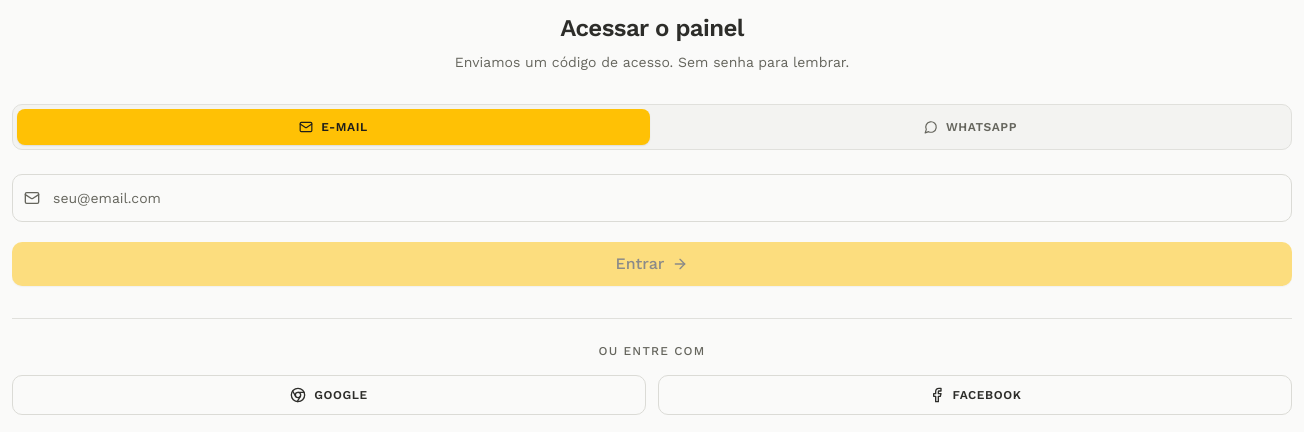
S1 9.4.2 — o login em etapas nas duas abas › ABA E-MAIL: pede o código e AVANÇA para a etapa de verificação
The image size is (1304, 432).
In the field named "E-mail": (652, 198) [12,174,1292,222], type "fulana@example.com"
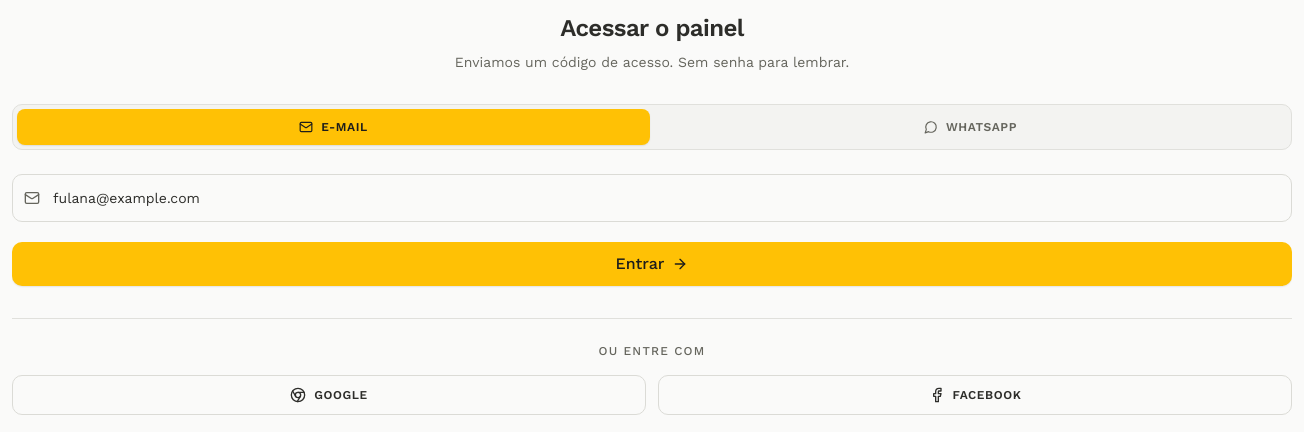
Click the 1st button named "entrar": (652, 264) [12,242,1292,286]
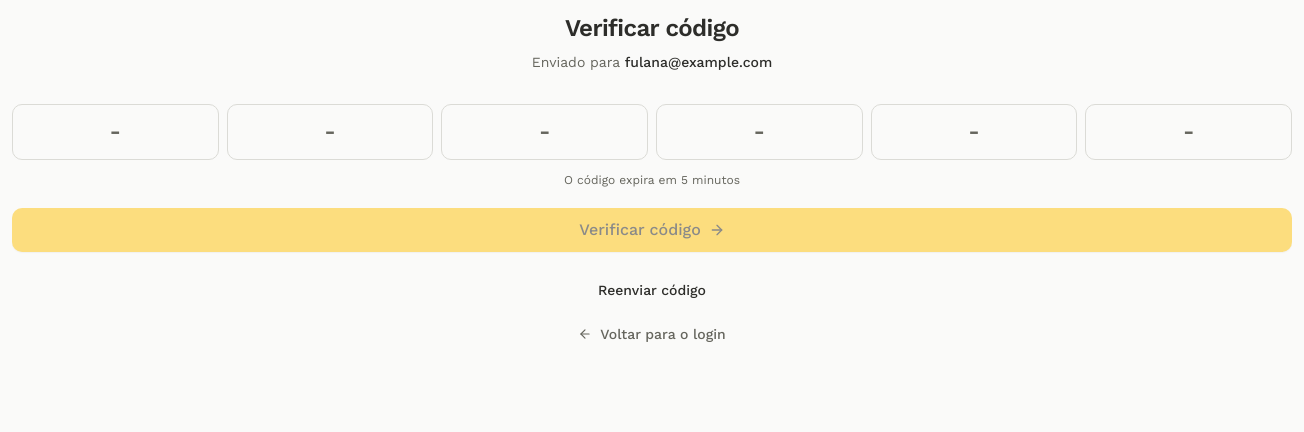
Expected: the heading "Verificar código" is shown, [565,14,739,42]
Expected: the text "fulana@example.com" is shown, [625,54,772,70]
Expected: the field named "Dígito 1 do código" is shown, [12,104,219,160]
